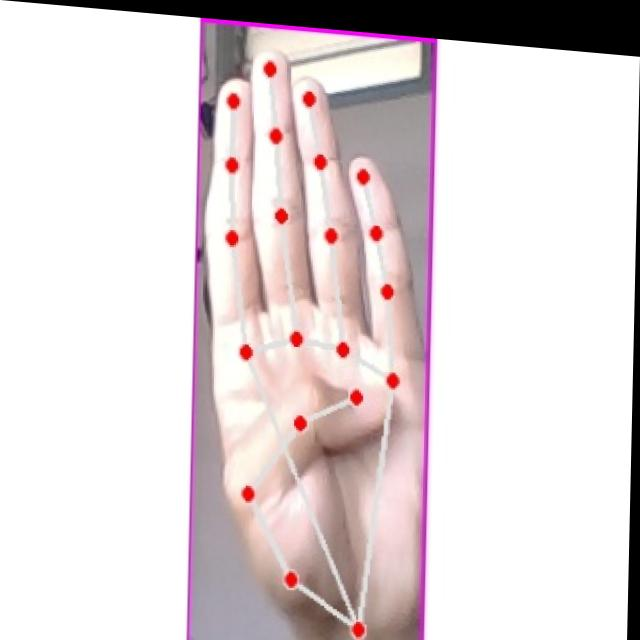B: (193, 27, 429, 640)
